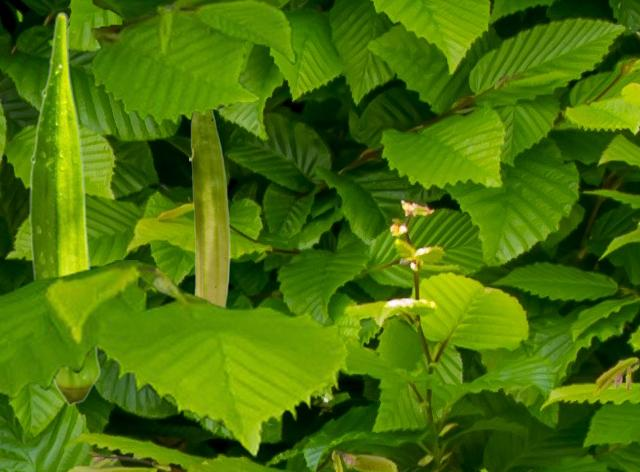okra: (29, 11, 100, 405), (189, 111, 229, 305)
